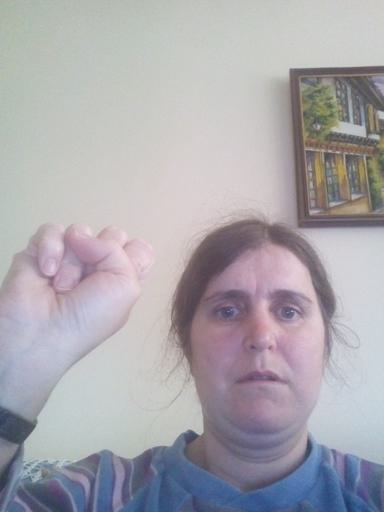fist: (2, 218, 159, 362)
